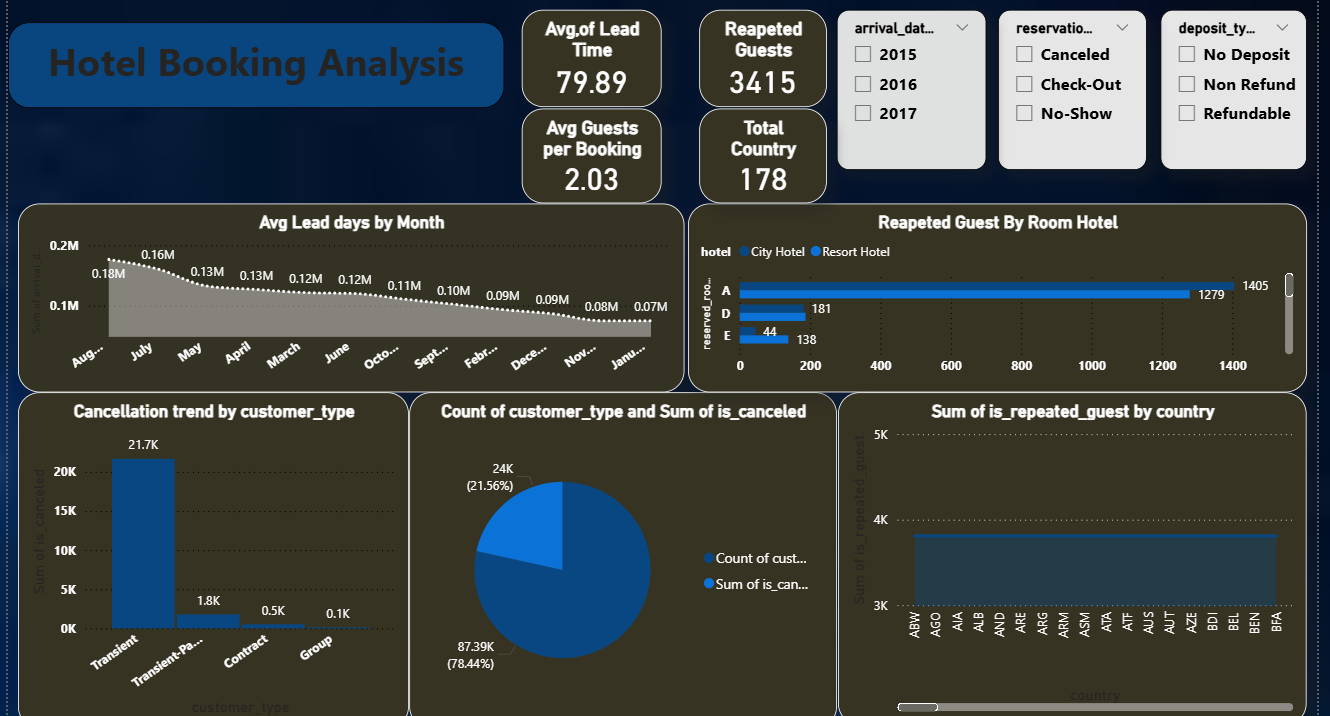

Layout of this report page (visuals, bound fields, positions):
{"tool":"powerbi","page":{"name":"Page 3","canvas":[1280,720],"ordinal":2},"visuals":[{"type":"card","title":"Avg,of Lead Time","fields":{"Values":["Avg(Hotel Bookings (1).lead_time)"]},"box":[502.6,13.5,137,95.4],"z":0},{"type":"card","title":"Avg Guests per Booking","fields":{"Values":["Avg(Hotel Bookings (1).total no.of people)"]},"box":[502.6,110.1,137,92.9],"z":1000},{"type":"lineChart","title":"Avg Lead days by Month","fields":{"Category":["Hotel Bookings (1).arrival_date_month"],"Y":["Sum(Hotel Bookings (1).arrival_date_day_of_month)"]},"box":[9.8,203,651.8,184.6],"z":2000},{"type":"clusteredColumnChart","title":"Cancellation trend by customer_type","fields":{"Category":["Hotel Bookings (1).customer_type"],"Y":["Sum(Hotel Bookings (1).is_canceled)"]},"box":[9.8,387.6,382.7,328.9],"z":3000},{"type":"pieChart","fields":{"Y":["CountNonNull(Hotel Bookings (1).customer_type)","Sum(Hotel Bookings (1).is_canceled)"]},"box":[392.5,387.6,418.2,328.9],"z":4000},{"type":"clusteredBarChart","title":"Reapeted Guest By Room Hotel","fields":{"Category":["Hotel Bookings (1).reserved_room_type"],"Y":["Sum(Hotel Bookings (1).is_repeated_guest)"],"Series":["Hotel Bookings (1).hotel"]},"box":[665.2,203,605.3,184.6],"z":5000},{"type":"areaChart","fields":{"Category":["Hotel Bookings (1).country"],"Y":["Sum(Hotel Bookings (1) (1).is_repeated_guest)"]},"box":[812,387.6,458.6,325.3],"z":6000},{"type":"card","title":"Reapeted Guests","fields":{"Values":["Sum(Hotel Bookings (1).is_repeated_guest)"]},"box":[676.2,13.5,124.7,95.4],"z":7000},{"type":"slicer","fields":{"Values":["Hotel Bookings (1).deposit_type"]},"box":[1127.5,13.5,143.1,156.5],"z":8000},{"type":"slicer","fields":{"Values":["Hotel Bookings (1).reservation_status"]},"box":[968.5,13.5,145.5,156.5],"z":9000},{"type":"slicer","fields":{"Values":["Hotel Bookings (1).arrival_date_year"]},"box":[810.7,13.5,146.7,156.5],"z":10000},{"type":"textbox","box":[0,25.7,485.5,84.4],"z":11000},{"type":"card","title":"Total Country","fields":{"Values":["Count(Hotel Bookings (1) (1).country)"]},"box":[676.2,110.1,124.7,92.9],"z":12000}]}

Visuals, with their boxes in screenshot pixels (x1, y1, x2, y2):
"Avg,of Lead Time" card: [522, 7, 662, 104]
"Avg Guests per Booking" card: [522, 105, 662, 200]
"Avg Lead days by Month" lineChart: [20, 200, 684, 388]
"Cancellation trend by customer_type" clusteredColumnChart: [20, 388, 410, 715]
pieChart - CountNonNull(Hotel Bookings (1).customer_type) x Sum(Hotel Bookings (1).is_canceled): [410, 388, 836, 715]
"Reapeted Guest By Room Hotel" clusteredBarChart: [688, 200, 1304, 388]
areaChart - Hotel Bookings (1).country x Sum(Hotel Bookings (1) (1).is_repeated_guest): [837, 388, 1304, 715]
"Reapeted Guests" card: [699, 7, 826, 104]
slicer - Hotel Bookings (1).deposit_type: [1158, 7, 1304, 166]
slicer - Hotel Bookings (1).reservation_status: [996, 7, 1145, 166]
slicer - Hotel Bookings (1).arrival_date_year: [836, 7, 985, 166]
textbox: [10, 19, 505, 105]
"Total Country" card: [699, 105, 826, 200]
